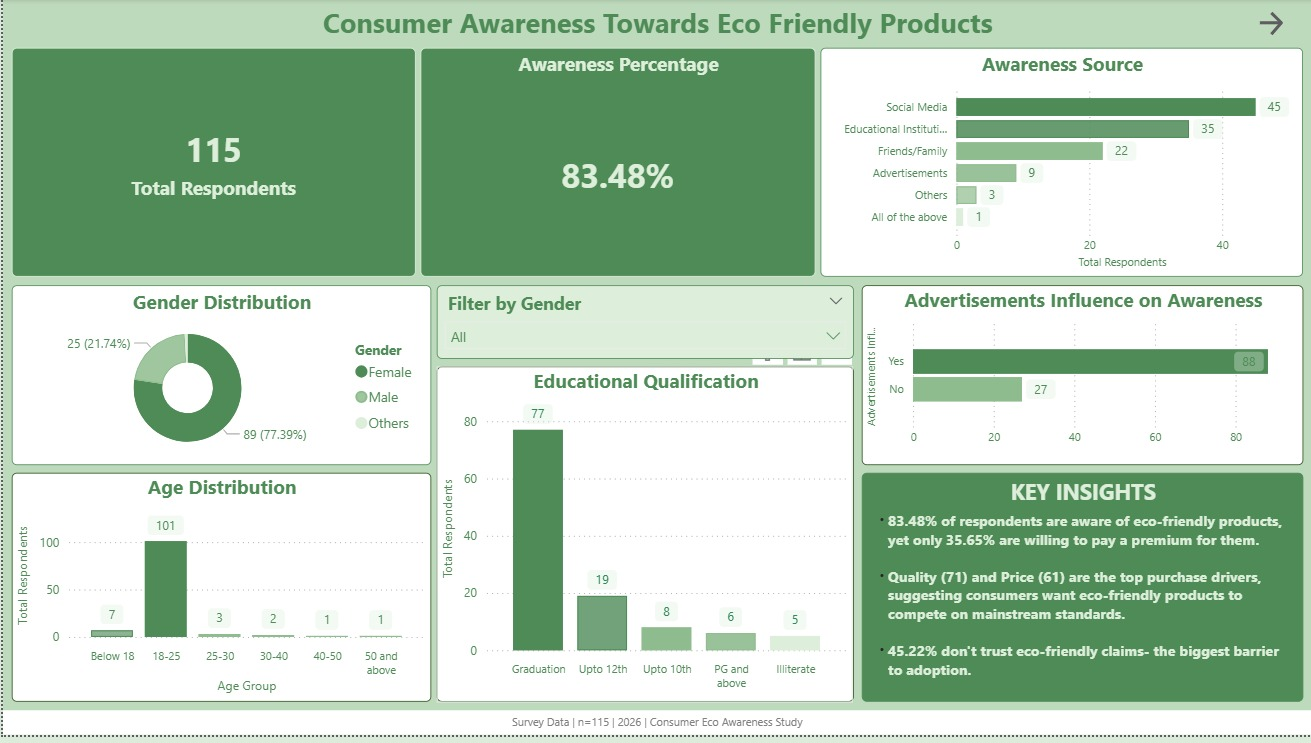

What the dashboard file says about the page in this screenshot:
{"tool":"powerbi","page":{"name":"Consumer Awareness Towards Eco Friendly Products","canvas":[1280,720],"ordinal":0},"visuals":[{"type":"card","fields":{"Values":["Main Table.Total Respondents"]},"box":[8,48,395,224],"z":0},{"type":"donutChart","title":"Gender Distribution","fields":{"Category":["Main Table.Gender"],"Y":["Main Table.Total Respondents"]},"box":[8,280,410,176],"z":1000},{"type":"columnChart","title":"Age Distribution","fields":{"Category":["Age sort table.Age Group"],"Y":["select","Main Table.Total Respondents"]},"box":[8,464,410,224],"z":2000},{"type":"clusteredColumnChart","title":"Educational Qualification  ","fields":{"Category":["Main Table.  Educational Qualification  "],"Y":["Main Table.Total Respondents"]},"box":[424,360,408,328],"z":3000},{"type":"actionButton","box":[1224,0,56,48],"z":4000},{"type":"slicer","fields":{"Values":["Main Table.Gender"]},"box":[424,280,408,72],"z":5000},{"type":"kpi","title":"Awareness Percentage","fields":{"TrendLine":["Main Table.Eco Awareness"],"Indicator":["Divide(Main Table.Total Respondents, ScopedEval(Main Table.Total Respondents, []))"]},"box":[408,48,386,224],"z":6000},{"type":"clusteredBarChart","title":"Advertisements Influence on Awareness","fields":{"Category":["Main Table.Advertisements Influence"],"Y":["Divide(Main Table.Total Respondents, ScopedEval(Main Table.Total Respondents, []))"]},"box":[840,280,432,176],"z":7000},{"type":"textbox","box":[8,0,1264,48],"z":8000},{"type":"textbox","title":"KEY INSIGHTS","box":[840,464,432,224],"z":9000},{"type":"textbox","box":[0,696,1280,24],"z":10000},{"type":"clusteredBarChart","title":"Awareness Source","fields":{"Category":["Main Table.Awareness Source"],"Y":["Main Table.Total Respondents"]},"box":[800,48,472,224],"z":11000}]}

Visuals, with their boxes in screenshot pixels (x1, y1, x2, y2), scaled from the page's 1280x720 canvas onto the 1311x743 screenshot:
card - Main Table.Total Respondents: 8,50,413,281
"Gender Distribution" donutChart: 8,289,428,471
"Age Distribution" columnChart: 8,479,428,710
"Educational Qualification  " clusteredColumnChart: 434,372,852,710
actionButton: 1254,0,1310,50
slicer - Main Table.Gender: 434,289,852,363
"Awareness Percentage" kpi: 418,50,813,281
"Advertisements Influence on Awareness" clusteredBarChart: 860,289,1303,471
textbox: 8,0,1303,50
"KEY INSIGHTS" textbox: 860,479,1303,710
textbox: 0,718,1310,742
"Awareness Source" clusteredBarChart: 819,50,1303,281
